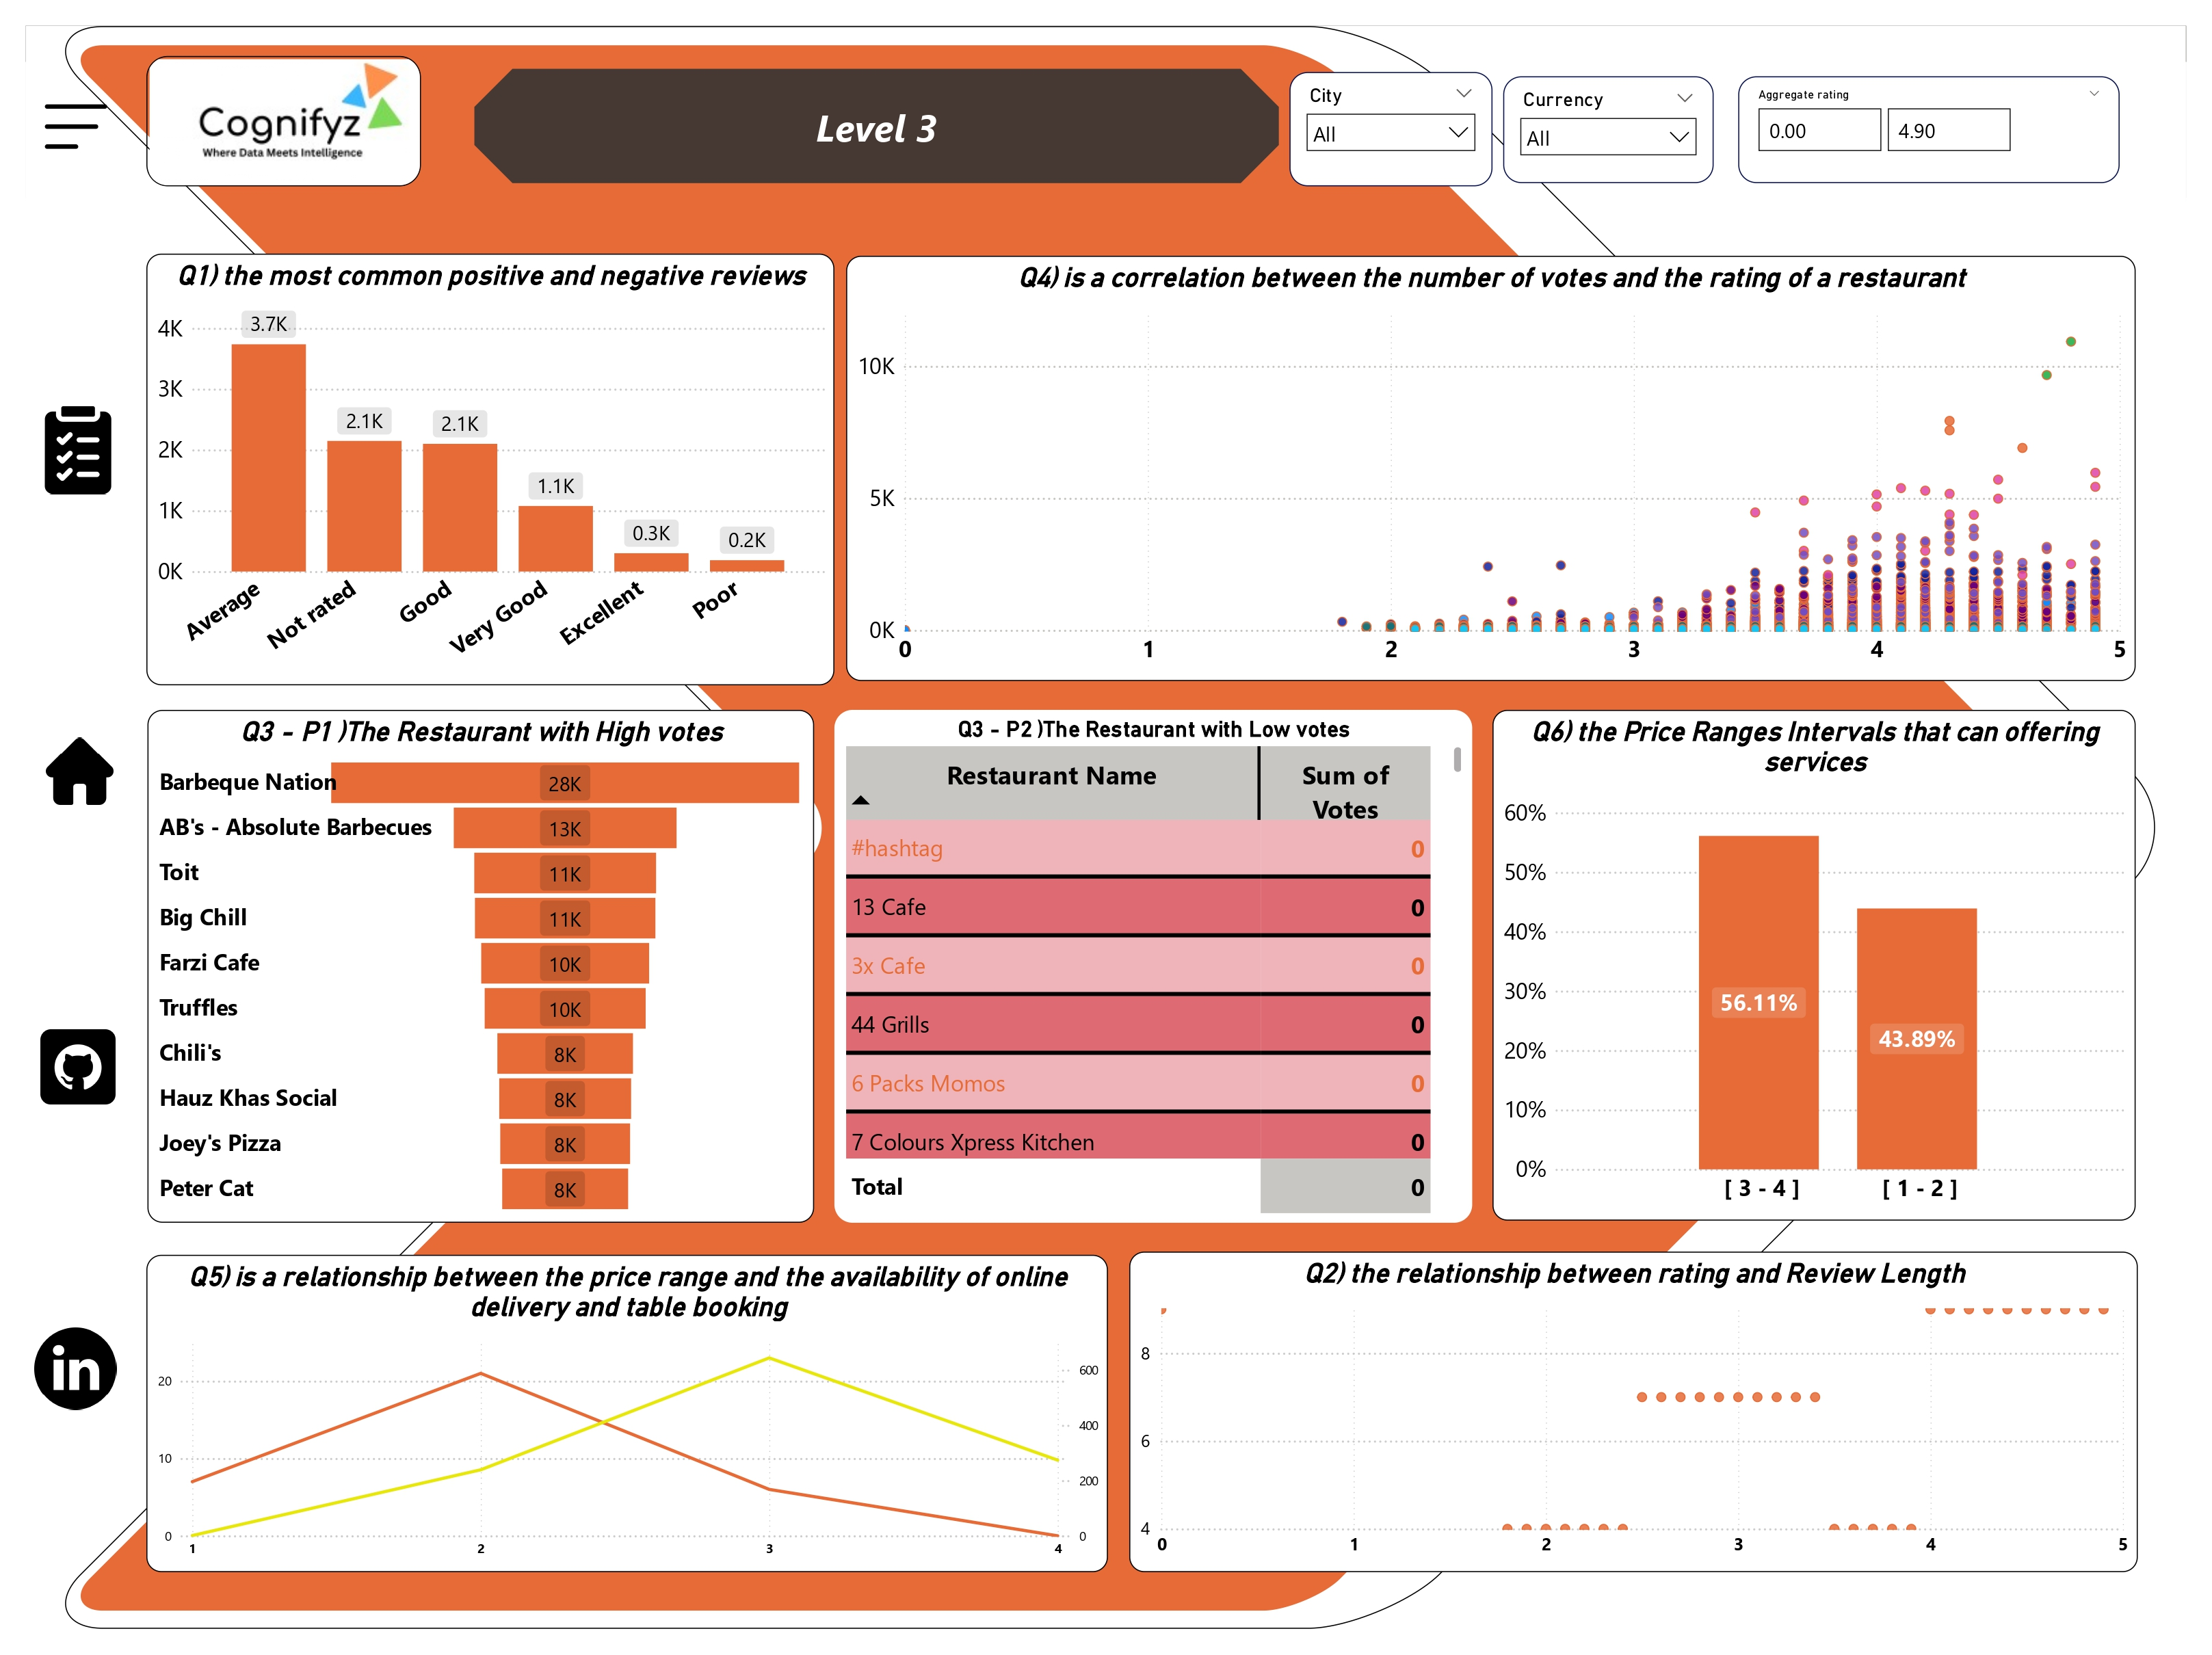

This screenshot's page, from the dashboard's own definition file:
{"tool":"powerbi","page":{"name":"Level 3","canvas":[2022,1500],"ordinal":4},"visuals":[{"type":"shape","box":[0,0,2023.3,1500],"z":0},{"type":"image","box":[8,56,78,76],"z":1000},{"type":"image","box":[0,933.6,96.7,80],"z":2000},{"type":"image","box":[2.5,661.4,95,72.5],"z":3000},{"type":"image","box":[2.5,331.7,92.5,130],"z":4000},{"type":"shape","box":[30,17.5,1902.5,1465],"z":5000},{"type":"shape","box":[420,40,753.3,106.7],"z":8000},{"type":"columnChart","title":"Q1) the most common positive and negative reviews","fields":{"Category":["Dataset.Rating text"],"Y":["CountNonNull(Dataset.Rating text)"]},"box":[113.3,213.3,643.3,403.3],"z":9000},{"type":"funnel","title":"Q3 - P1 )The Restaurant with High votes","fields":{"Category":["Dataset.Restaurant Name"],"Y":["Sum(Dataset.Votes)"]},"box":[114,640,624,480],"z":10000},{"type":"pivotTable","title":"Q3 - P2 )The Restaurant with Low votes","fields":{"Rows":["Dataset.Restaurant Name"],"Values":["Sum(Dataset.Votes)"]},"box":[756.5,640,597.5,480],"z":11000},{"type":"scatterChart","title":"Q4) is a correlation between the number of votes and the rating of a restaurant","fields":{"Series":["Dataset.Votes (clusters)"],"Y":["Dataset.Votes"],"X":["Dataset.Aggregate rating"]},"box":[767.5,215,1207.5,397.5],"z":12000},{"type":"lineChart","title":"Q5) is a relationship between the price range and the availability of online delivery and table booking","fields":{"Category":["Dataset.Price range"],"Y":["Sum(Dataset.Is delivering now Num)"],"Y2":["Sum(Dataset.Has Table booking Num)"]},"box":[113.3,1150,900,296.7],"z":13000},{"type":"columnChart","title":"Q6) the Price Ranges Intervals that can offering services","fields":{"Category":["Dataset.Price Range Intervals"],"Y":["Sum(Dataset.Votes)"]},"box":[1372.5,640,602.5,477.5],"z":14000},{"type":"slicer","fields":{"Values":["Dataset.Currency"]},"box":[1383.3,46.7,196.7,100],"z":15000},{"type":"slicer","fields":{"Values":["Dataset.City"]},"box":[1183.3,43.3,190,106.7],"z":16000},{"type":"slicer","fields":{"Values":["Dataset.Aggregate rating"]},"box":[1603.3,46.7,356.7,100],"z":17000},{"type":"image","box":[0,1213.3,93.3,86.7],"z":18000},{"type":"scatterChart","title":"Q2) the relationship between rating and Review Length","fields":{"X":["Dataset.Aggregate rating"],"Y":["Dataset.Review Length"]},"box":[1033.3,1146.7,943.3,300],"z":19000}]}

Visuals, with their boxes on the page's 2022x1500 design canvas (x1, y1, x2, y2). These are canvas units, not pixel positions in the 2212x1655 screenshot, which may show the page scaled, cropped or inside an application window:
shape: [0,0,2023,1500]
image: [8,56,86,132]
image: [0,934,97,1014]
image: [2,661,98,734]
image: [2,332,95,462]
shape: [30,18,1932,1482]
shape: [420,40,1173,147]
"Q1) the most common positive and negative reviews" columnChart: [113,213,757,617]
"Q3 - P1 )The Restaurant with High votes" funnel: [114,640,738,1120]
"Q3 - P2 )The Restaurant with Low votes" pivotTable: [756,640,1354,1120]
"Q4) is a correlation between the number of votes and the rating of a restaurant" scatterChart: [768,215,1975,612]
"Q5) is a relationship between the price range and the availability of online delivery and table booking" lineChart: [113,1150,1013,1447]
"Q6) the Price Ranges Intervals that can offering services" columnChart: [1372,640,1975,1118]
slicer - Dataset.Currency: [1383,47,1580,147]
slicer - Dataset.City: [1183,43,1373,150]
slicer - Dataset.Aggregate rating: [1603,47,1960,147]
image: [0,1213,93,1300]
"Q2) the relationship between rating and Review Length" scatterChart: [1033,1147,1977,1447]
